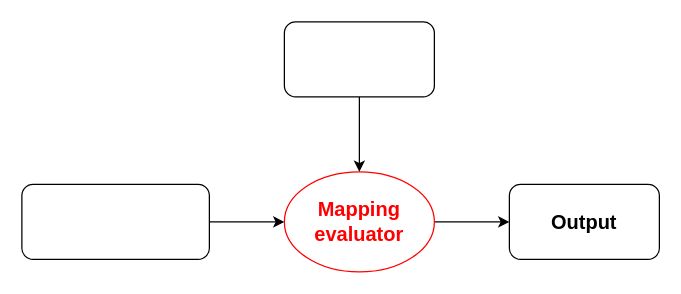
Image size: 681x294. Some labels were removed from this diagram. Here are the shapes that lost their labels. From the top down, the box of each, then its label:
(283, 21, 434, 97): Evaluation parameters
(21, 183, 209, 259): Source object
